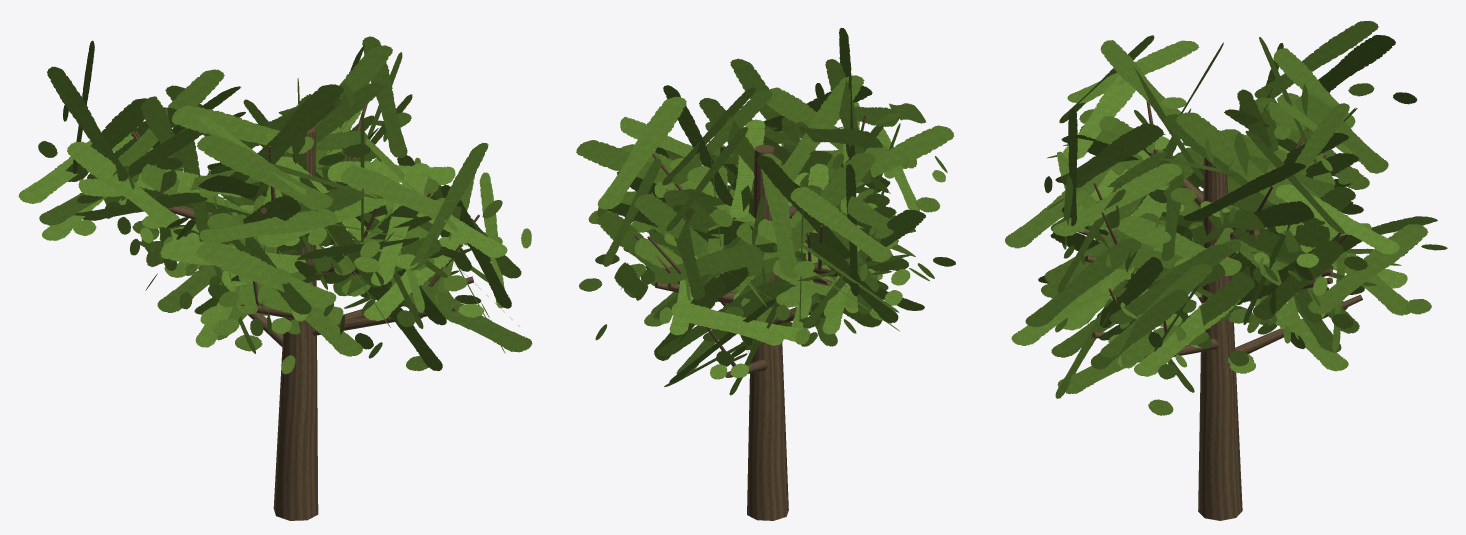
3 views of the same model, side by side, from view 1: azimuth 30°, elevation 25°; view 2: azimuth 150°, elevation 25°; view 3: azimuth 270°, elevation 25° (orthographic). The views are drawn at different scales.
Parts seen in each view (by area): view 1: oak-leaf, oak-bark; view 2: oak-leaf, oak-bark; view 3: oak-leaf, oak-bark.
Boxes of the visible parts, x1,y1,x2,y2 form: oak-leaf: [18, 36, 532, 374]; oak-bark: [132, 104, 479, 520]; oak-leaf: [576, 28, 955, 404]; oak-bark: [634, 115, 874, 520]; oak-leaf: [1005, 21, 1447, 415]; oak-bark: [1078, 101, 1362, 520].
Size of the model in its own units: 9.13 by 9.79 by 8.51.
2 materials, 2 textured.
